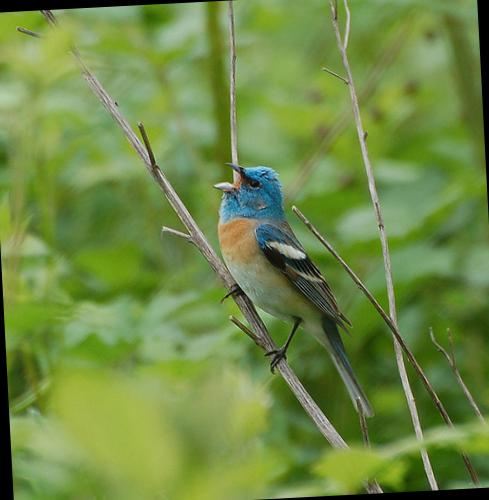bird: (194, 141, 376, 432)
